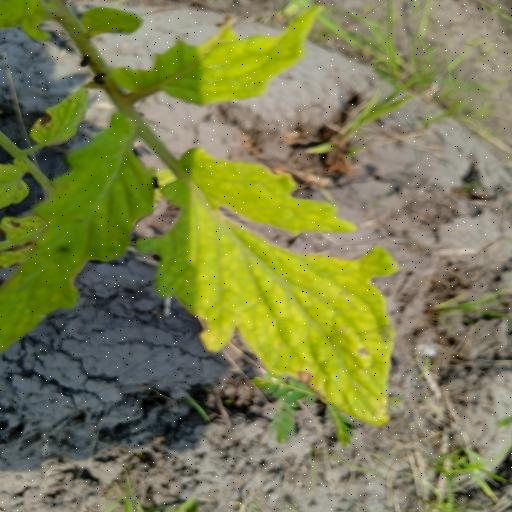Tomato_Brown_Spots: (152, 145, 404, 427), (0, 103, 164, 351), (138, 0, 333, 102)
